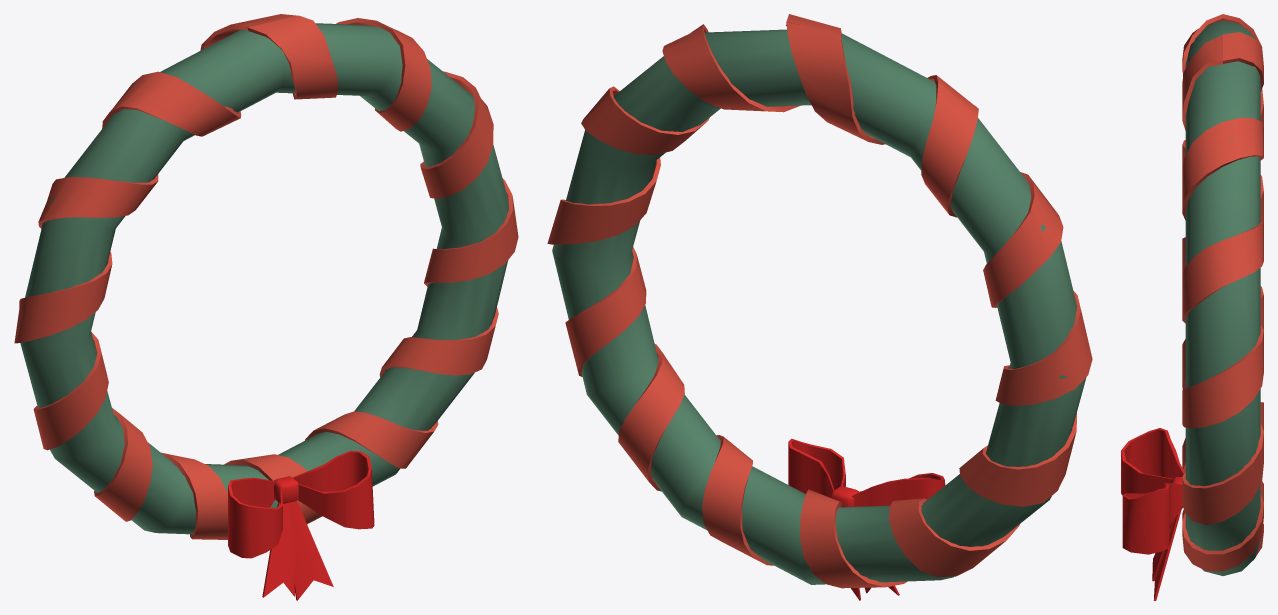
The model's file is Christmas_wreath_2.glb.
3 renders of one model, left to right at view 1: azimuth 30°, elevation 25°; view 2: azimuth 150°, elevation 25°; view 3: azimuth 270°, elevation 25°, orthographic. The views are drawn at different scales.
Parts seen in each view (by area): view 1: Christmas_wreath_2; view 2: Christmas_wreath_2; view 3: Christmas_wreath_2.
Part boxes in pixels (left/top/right/bottom): Christmas_wreath_2: left=14, top=14, right=518, bottom=600; Christmas_wreath_2: left=547, top=14, right=1092, bottom=600; Christmas_wreath_2: left=1121, top=14, right=1263, bottom=600.
Size of the model in its own units: 0.6649 by 0.7088 by 0.1675.
Materials: 1 (1 with a texture image).
